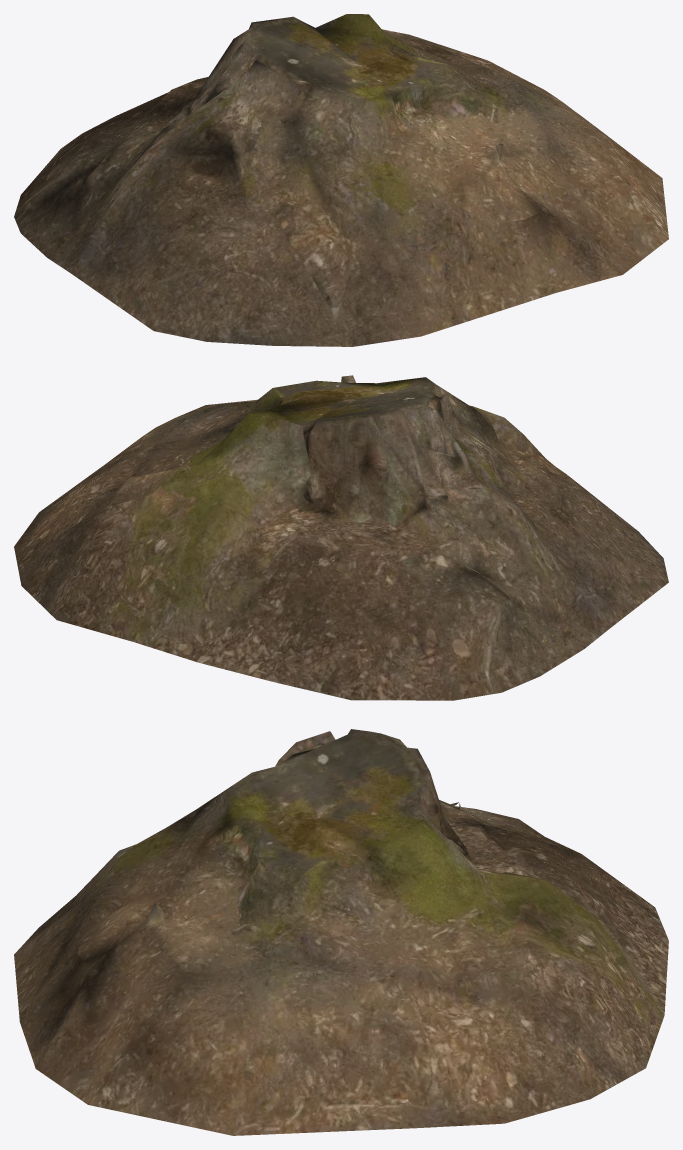
Rendered from tree_stump_02_lod1.glb.
3 renders of one model, top to bottom at view 1: azimuth 30°, elevation 25°; view 2: azimuth 150°, elevation 25°; view 3: azimuth 270°, elevation 25°, orthographic. The views are drawn at different scales.
Parts seen in each view (by area): view 1: tree_stump_02; view 2: tree_stump_02; view 3: tree_stump_02.
Boxes of the visible parts, x1,y1,x2,y2 form: tree_stump_02: (14, 14, 668, 346); tree_stump_02: (14, 375, 668, 700); tree_stump_02: (14, 729, 668, 1135).
Size of the model in its own units: 1.51 by 0.5142 by 1.39.
Materials: 1 (1 with a texture image).
